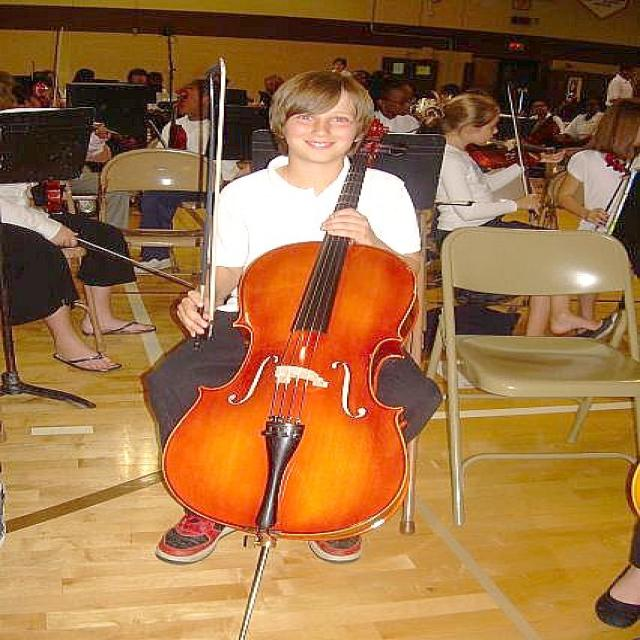cello: (158, 120, 418, 544)
violin: (470, 139, 560, 167), (160, 115, 197, 153), (45, 178, 64, 213)
